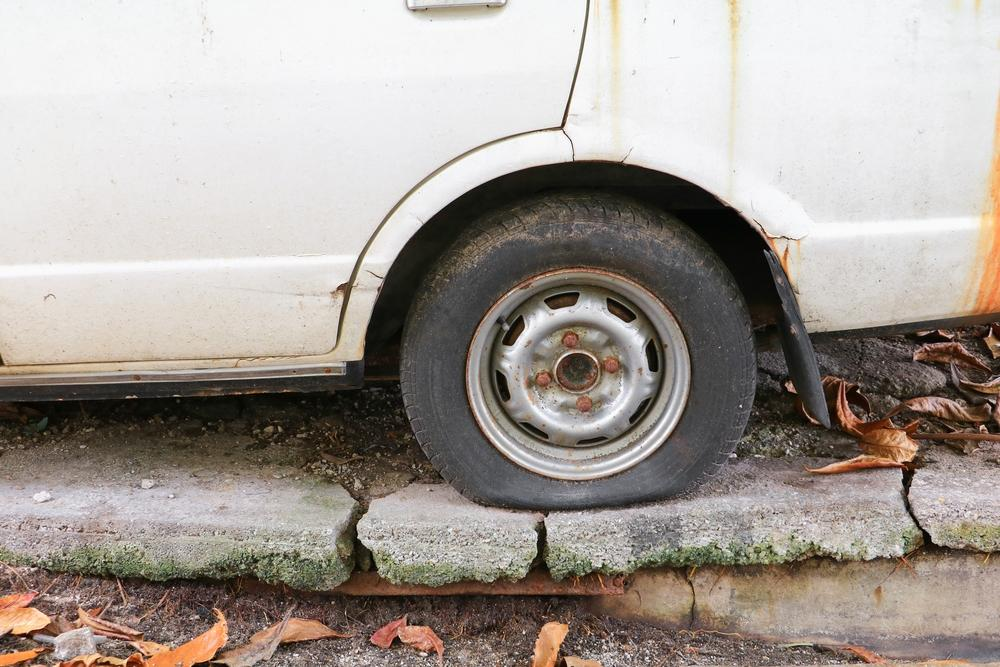tire flat: (400, 193, 755, 508)
